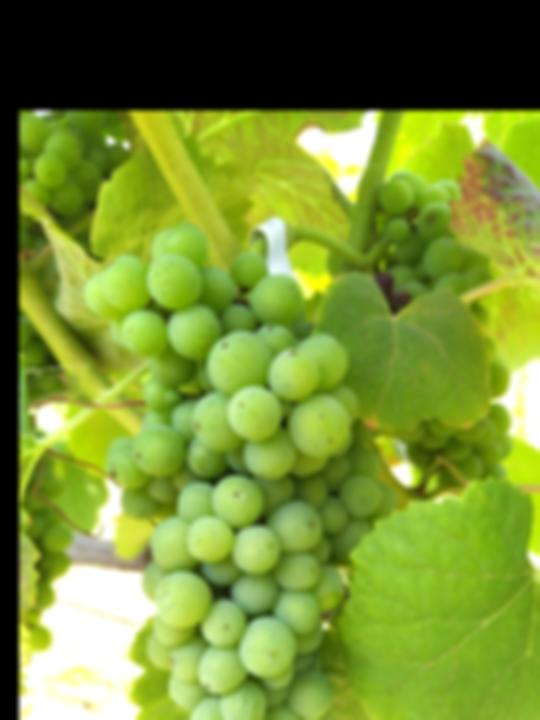grape: (86, 221, 385, 720)
